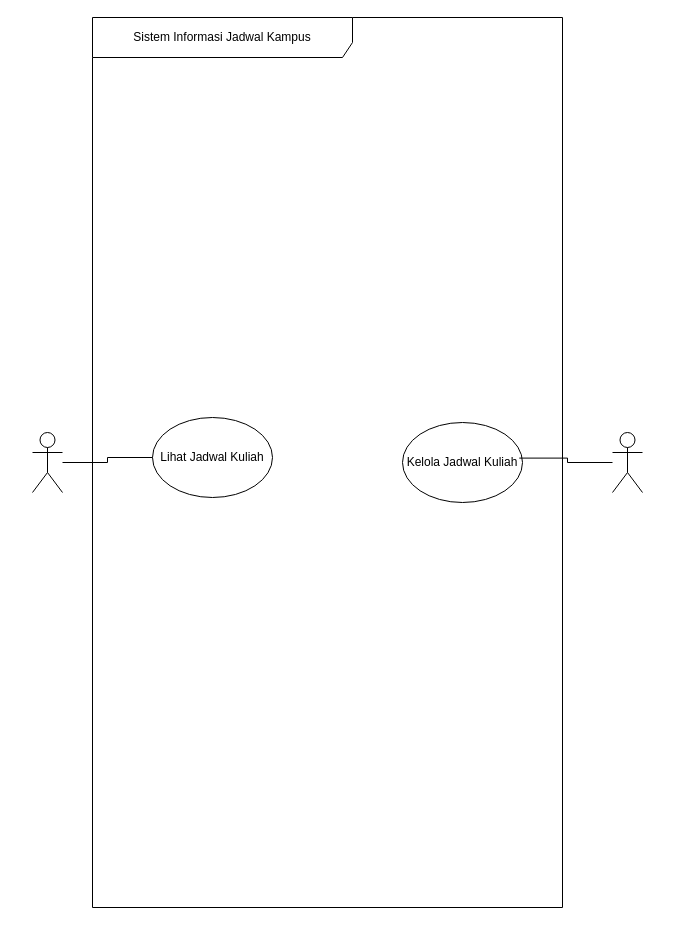
This 689x925 diagram has some shape labels left out. The centre of each missing label's shape, as x and y in pixels:
"Admin Akademik" goes at point 627,462.
"Mahasiswa" goes at point 47,462.
